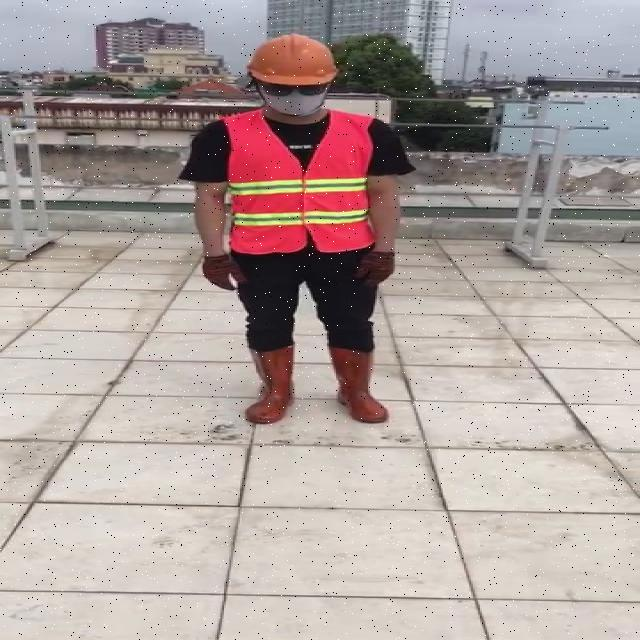Hard_hat: (242, 31, 342, 92)
Person: (172, 30, 421, 432)
Vest: (222, 106, 374, 252)
